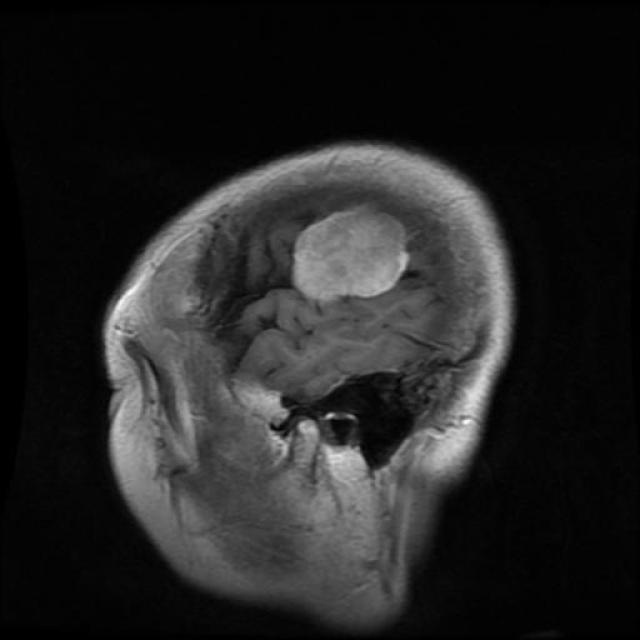meningioma: (290, 209, 410, 302)
